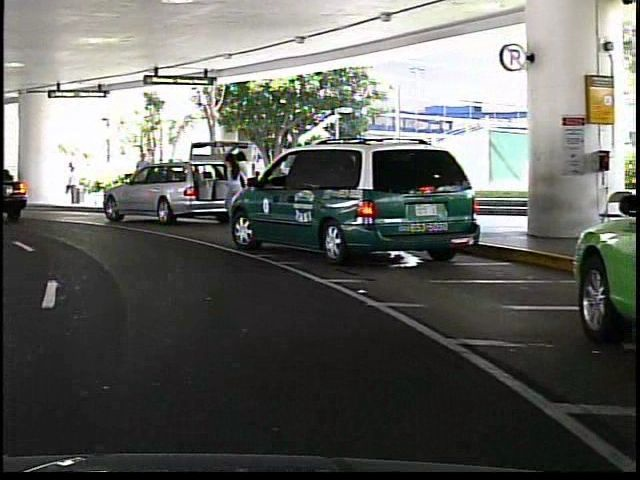person: (130, 149, 151, 203), (220, 147, 240, 203)
